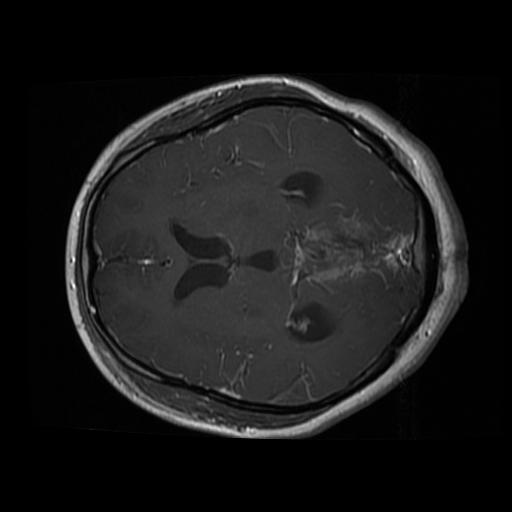glioma: (279, 205, 413, 294)
